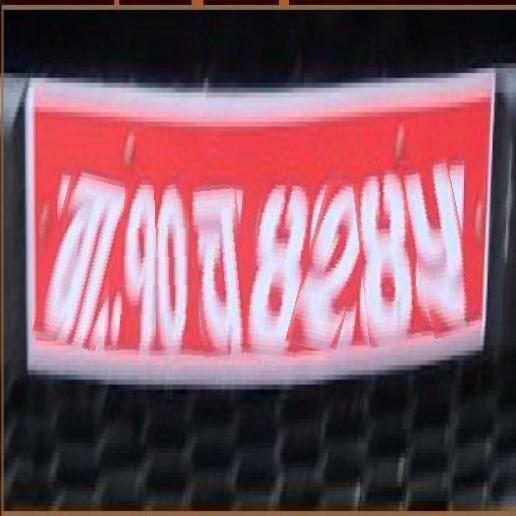0: (156, 181, 191, 361)
1: (120, 181, 158, 361)
2: (296, 178, 369, 353)
4: (247, 180, 310, 362), (355, 169, 418, 347)
5: (407, 159, 474, 338)
ba: (42, 164, 128, 349)
cha: (190, 180, 249, 362)
